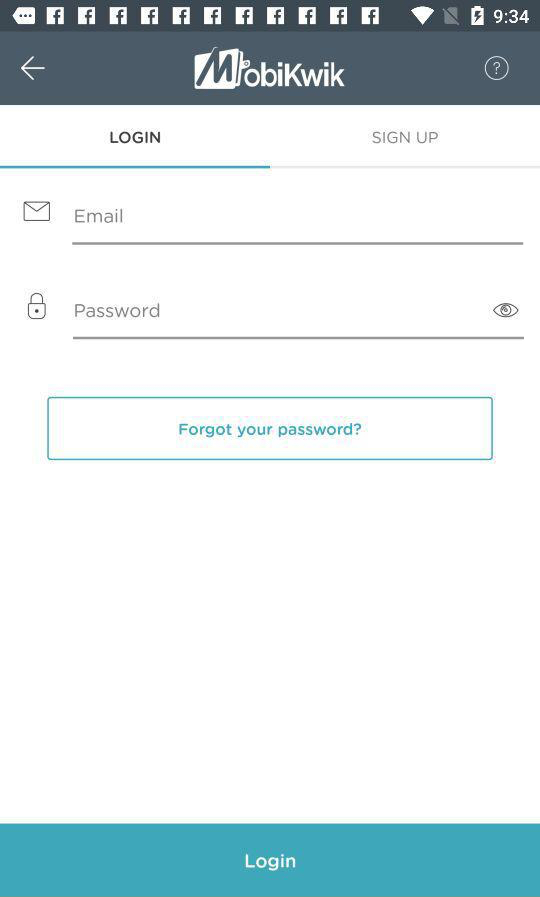EditText: (73, 302, 524, 340), (72, 209, 524, 246)
Icon: (484, 56, 510, 82), (21, 57, 47, 82), (24, 201, 52, 222), (28, 293, 47, 320), (493, 303, 519, 318)
Image: (194, 47, 345, 91)
Multi_Tab: (1, 106, 540, 171)
Text: (75, 303, 160, 319), (372, 132, 439, 145), (75, 209, 124, 224), (110, 132, 161, 145)
TextButton: (1, 824, 540, 897), (48, 397, 494, 461)
Toolbar: (1, 33, 539, 106)
UpperTaskBar: (1, 1, 540, 33)
